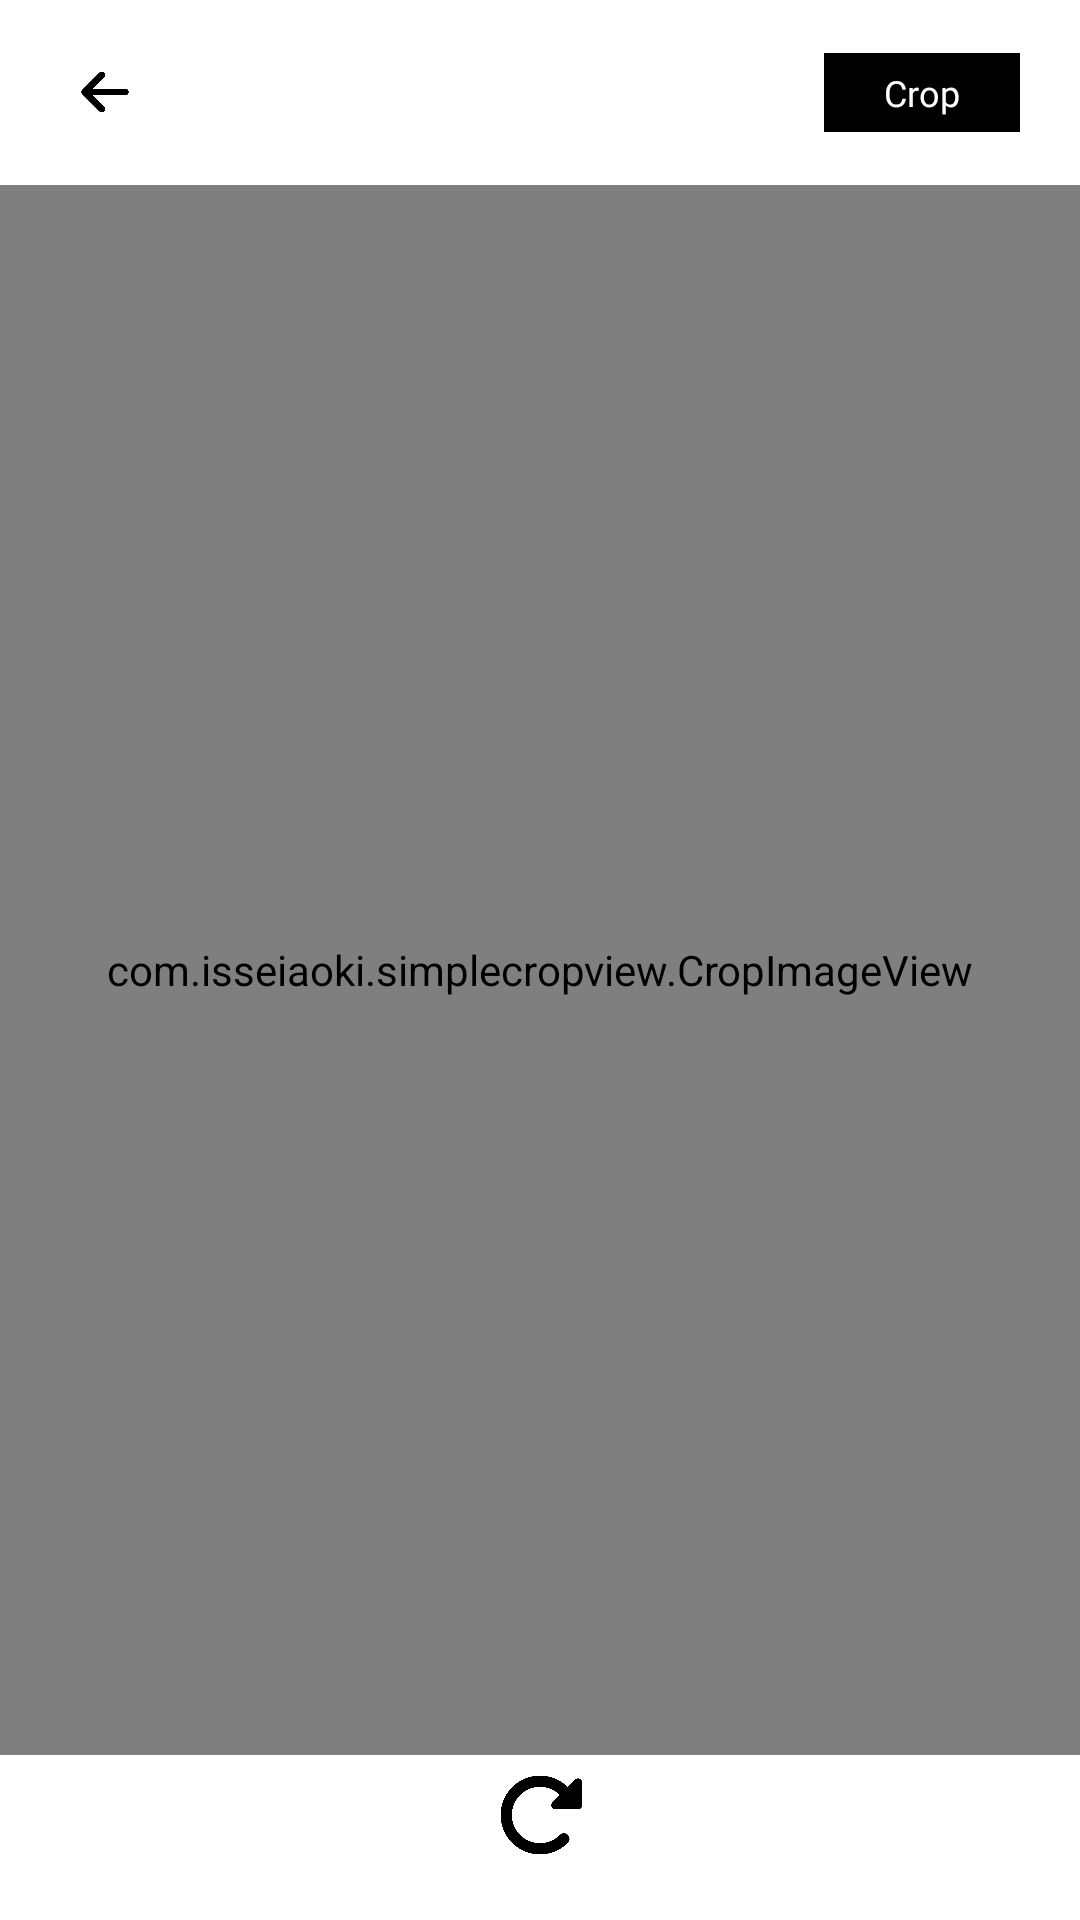

Where icons sit on this 1080w x 1920h app screen, as (x1, y1, x2, y2):
rotate right: (501, 1776, 582, 1854)
